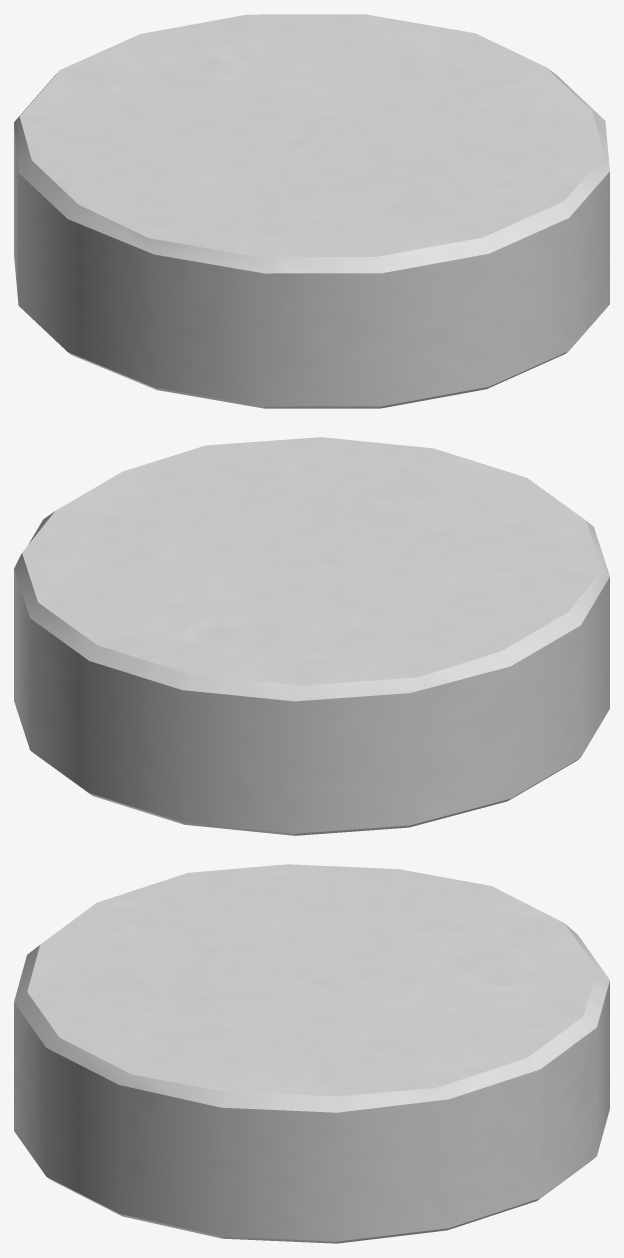
Rendered from SM_硫酸镁盖子.fbx.
The picture shows the model from 3 angles, top to bottom: view 1: azimuth 30°, elevation 25°; view 2: azimuth 150°, elevation 25°; view 3: azimuth 270°, elevation 25°; orthographic projection. The views are drawn at different scales.
Parts seen in each view (by area): view 1: SM_硫酸镁盖子; view 2: SM_硫酸镁盖子; view 3: SM_硫酸镁盖子.
Part boxes in pixels (x1,y1,x2,y2): SM_硫酸镁盖子: [14, 14, 609, 408]; SM_硫酸镁盖子: [14, 437, 609, 835]; SM_硫酸镁盖子: [14, 864, 609, 1243].
Bounding box in the file's own units: 77.05 × 21.21 × 79.8.
